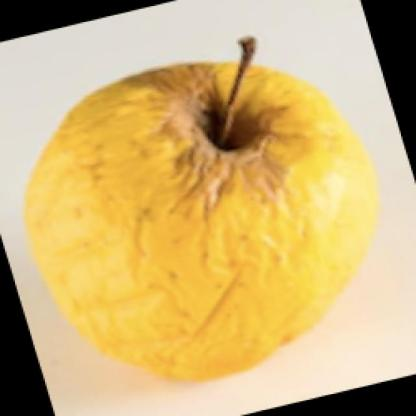defect: (116, 52, 216, 170)
